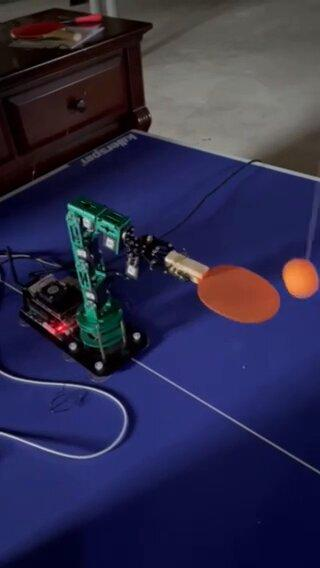oball: (281, 258, 319, 297)
